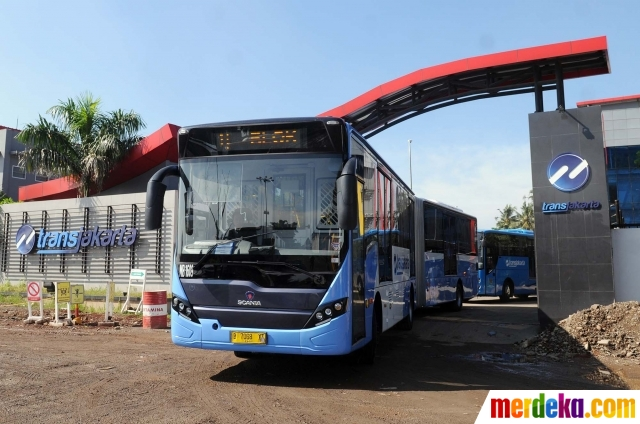plate: (229, 329, 264, 345)
